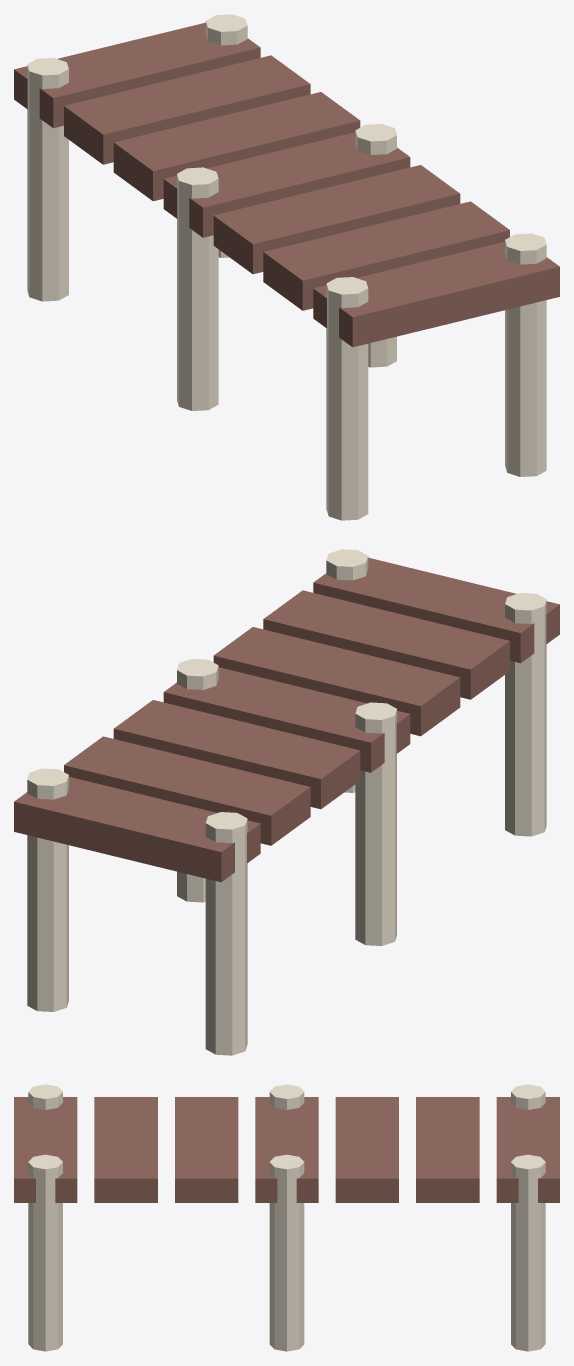
File: dock.glb
3 renders of one model, top to bottom at view 1: azimuth 30°, elevation 25°; view 2: azimuth 150°, elevation 25°; view 3: azimuth 270°, elevation 25°, orthographic. The views are drawn at different scales.
Visible parts, largest first — view 1: Quay plank, Quay plank.002, Quay plank.005, Quay plank.004, Quay plank.001, Quay plank.003, Quay plank.006, Stilt, Stilt.002, Stilt.001, Stilt.003, Stilt.004 (+1 smaller); view 2: Quay plank.006, Quay plank.004, Quay plank.001, Quay plank.002, Quay plank.005, Quay plank.003, Quay plank, Stilt.002, Stilt, Stilt.001, Stilt.005, Stilt.004 (+1 smaller); view 3: Quay plank.001, Quay plank.002, Quay plank.004, Quay plank.005, Stilt.004, Stilt.003, Stilt.005, Quay plank.003, Quay plank, Quay plank.006, Stilt.001, Stilt (+1 smaller).
Part boxes in pixels (box(x1,y1,x2,y2)): Quay plank: box(313, 241, 559, 347); Quay plank.002: box(213, 165, 460, 274); Quay plank.005: box(64, 55, 310, 164); Quay plank.004: box(113, 92, 360, 201); Quay plank.001: box(263, 201, 509, 310); Quay plank.003: box(163, 132, 410, 237); Quay plank.006: box(14, 22, 260, 128); Stilt: box(326, 277, 368, 520); Stilt.002: box(27, 58, 68, 301); Stilt.001: box(177, 167, 218, 410); Stilt.003: box(505, 233, 546, 476); Stilt.004: box(355, 124, 396, 367); Quay plank.006: box(14, 776, 260, 882); Quay plank.004: box(113, 700, 360, 809); Quay plank.001: box(263, 590, 509, 699); Quay plank.002: box(213, 627, 460, 736); Quay plank.005: box(64, 736, 310, 845); Quay plank.003: box(163, 667, 410, 772); Quay plank: box(313, 557, 559, 663); Stilt.002: box(205, 812, 247, 1055); Stilt: box(505, 593, 546, 836); Stilt.001: box(355, 702, 396, 945); Stilt.005: box(27, 768, 68, 1011); Stilt.004: box(177, 659, 218, 902); Quay plank.001: box(94, 1097, 157, 1202); Quay plank.002: box(175, 1097, 238, 1202); Quay plank.004: box(335, 1097, 398, 1202); Quay plank.005: box(416, 1097, 479, 1202); Stilt.004: box(269, 1154, 304, 1351); Stilt.003: box(28, 1154, 62, 1351); Stilt.005: box(511, 1154, 545, 1351); Quay plank.003: box(255, 1097, 318, 1202); Quay plank: box(14, 1097, 77, 1202); Quay plank.006: box(496, 1097, 559, 1202); Stilt.001: box(269, 1084, 304, 1109); Stilt: box(28, 1084, 62, 1109).
Size of the model in its own units: 0.75 by 0.75 by 2.04.
